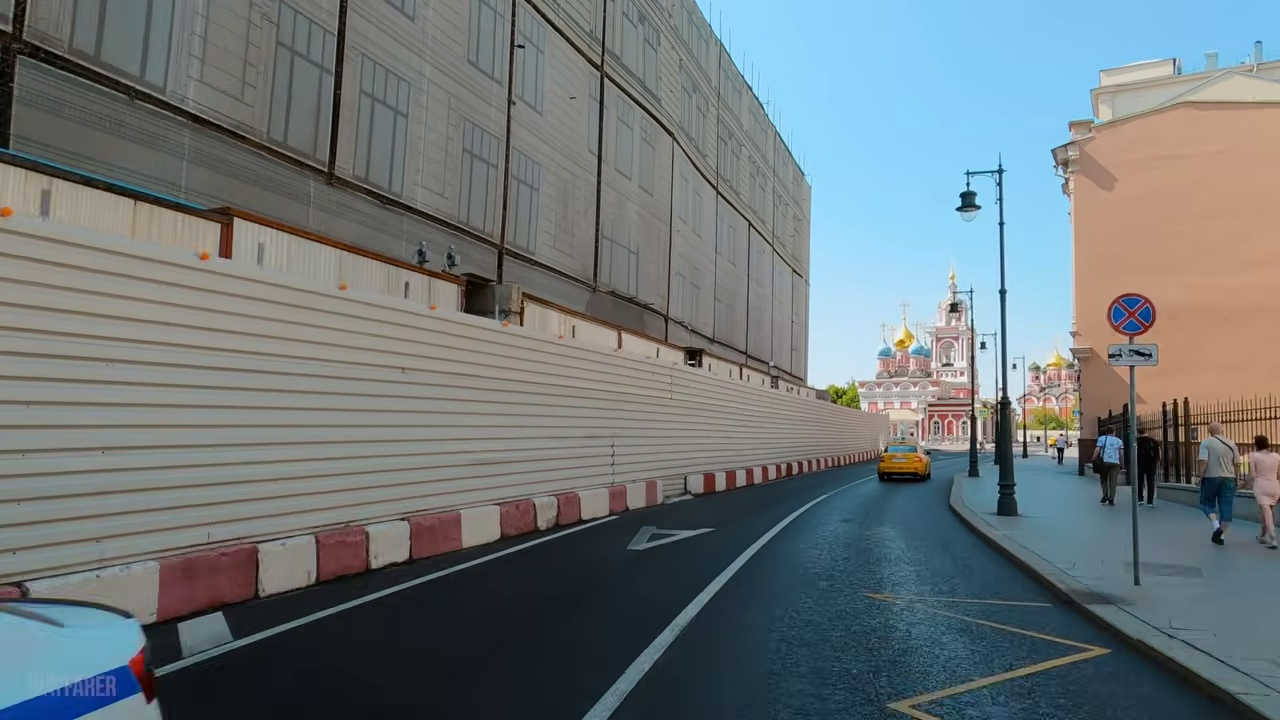apagada: (952, 195, 980, 222)
